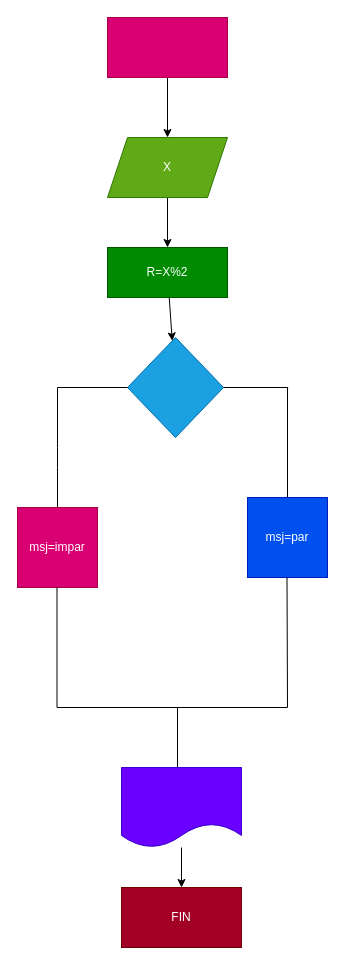
This 345x965 diagram has some shape labels left out. The shapes that lost their labels are listed below. From the top down, each one's centre as x and y in pixels, then its label:
At [167,47]: "INICION".
At [175,387]: "R==0".
At [181,807]: "X es msj".
